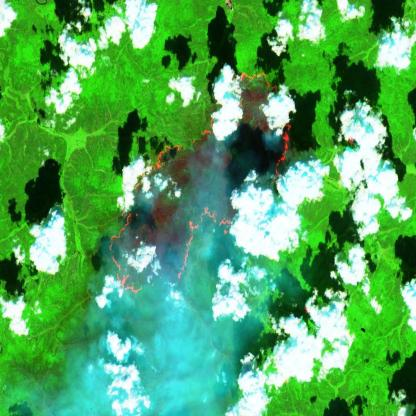fire: (105, 69, 292, 297)
